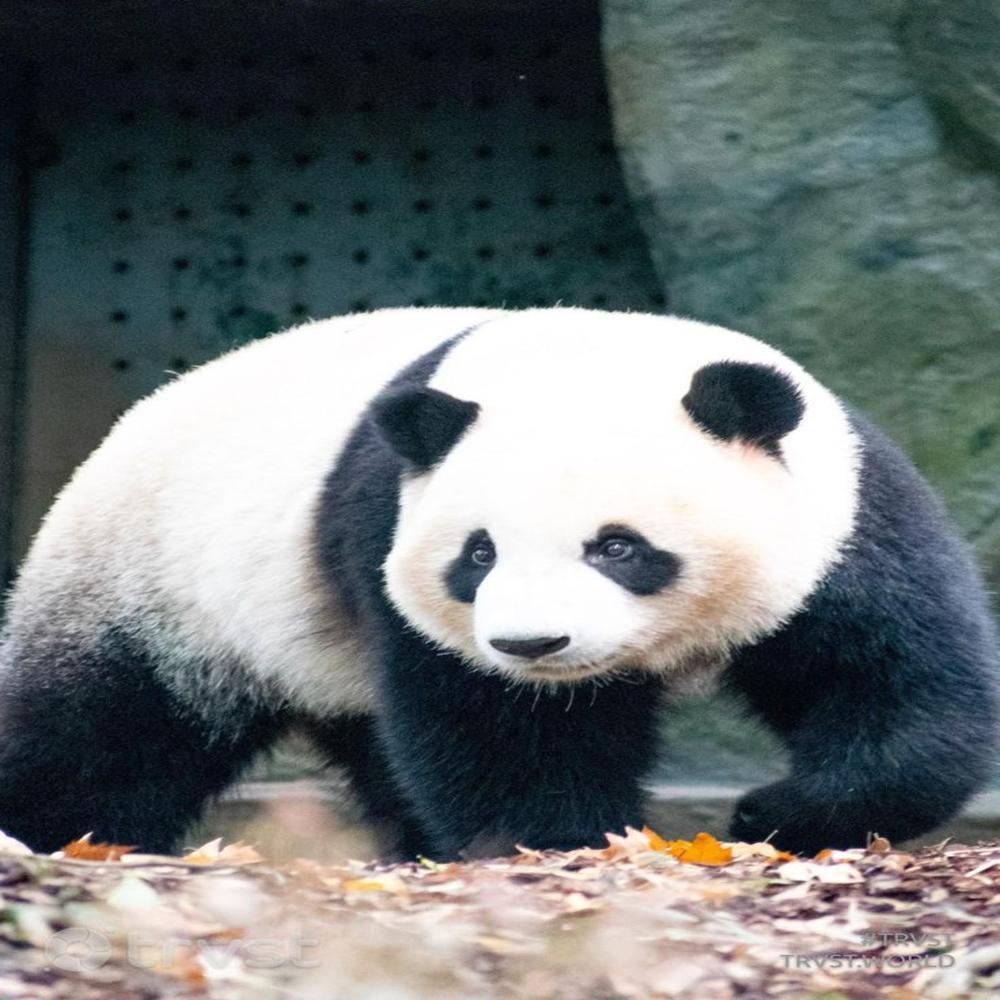panda: (10, 296, 1000, 867)
